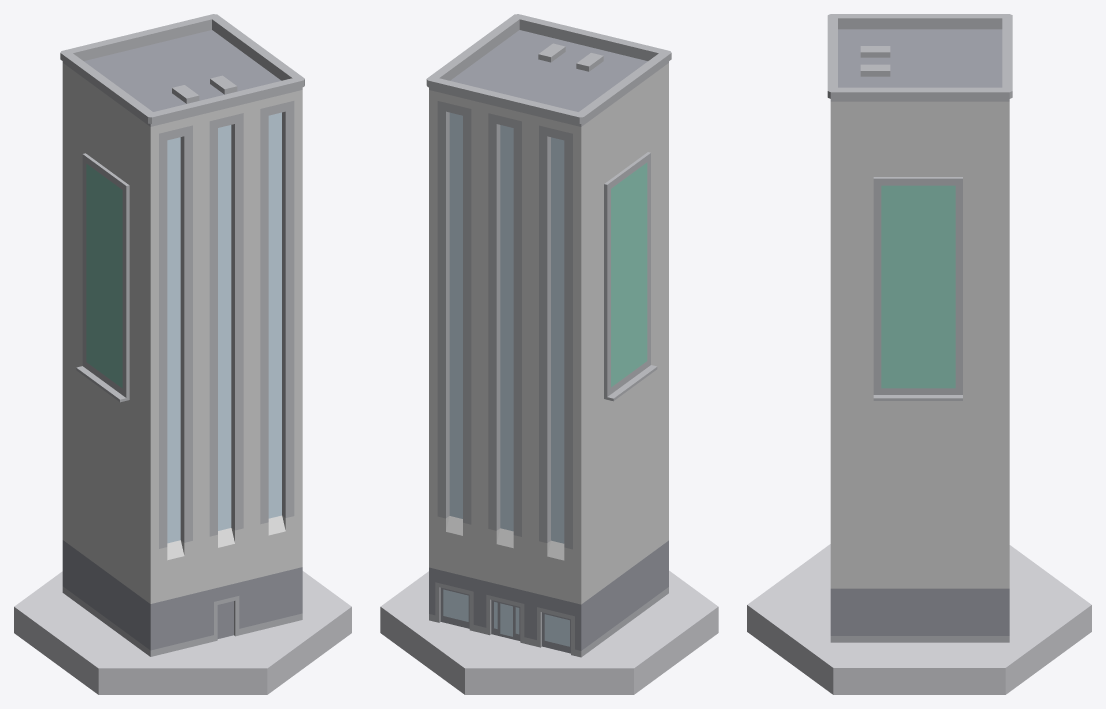
The model's file is skyscraper_3_low.fbx.
The picture shows the model from 3 angles, left to right: view 1: azimuth 30°, elevation 25°; view 2: azimuth 150°, elevation 25°; view 3: azimuth 270°, elevation 25°; orthographic projection. The views are drawn at different scales.
Parts seen in each view (by area): view 1: skyscraperF.001, pavement_low.005, sign_billboard.003; view 2: skyscraperF.001, pavement_low.005, sign_billboard.003; view 3: skyscraperF.001, pavement_low.005, sign_billboard.004.
Part boxes in pixels (x1,y1,x2,y2): skyscraperF.001: (60,14,304,656); pavement_low.005: (14,571,351,694); sign_billboard.003: (76,153,129,402); skyscraperF.001: (426,14,671,657); pavement_low.005: (380,570,718,694); sign_billboard.003: (604,152,657,401); skyscraperF.001: (827,14,1012,642); pavement_low.005: (747,544,1091,694); sign_billboard.004: (873,177,962,400).
Size of the model in its own units: 100 by 214 by 115.
